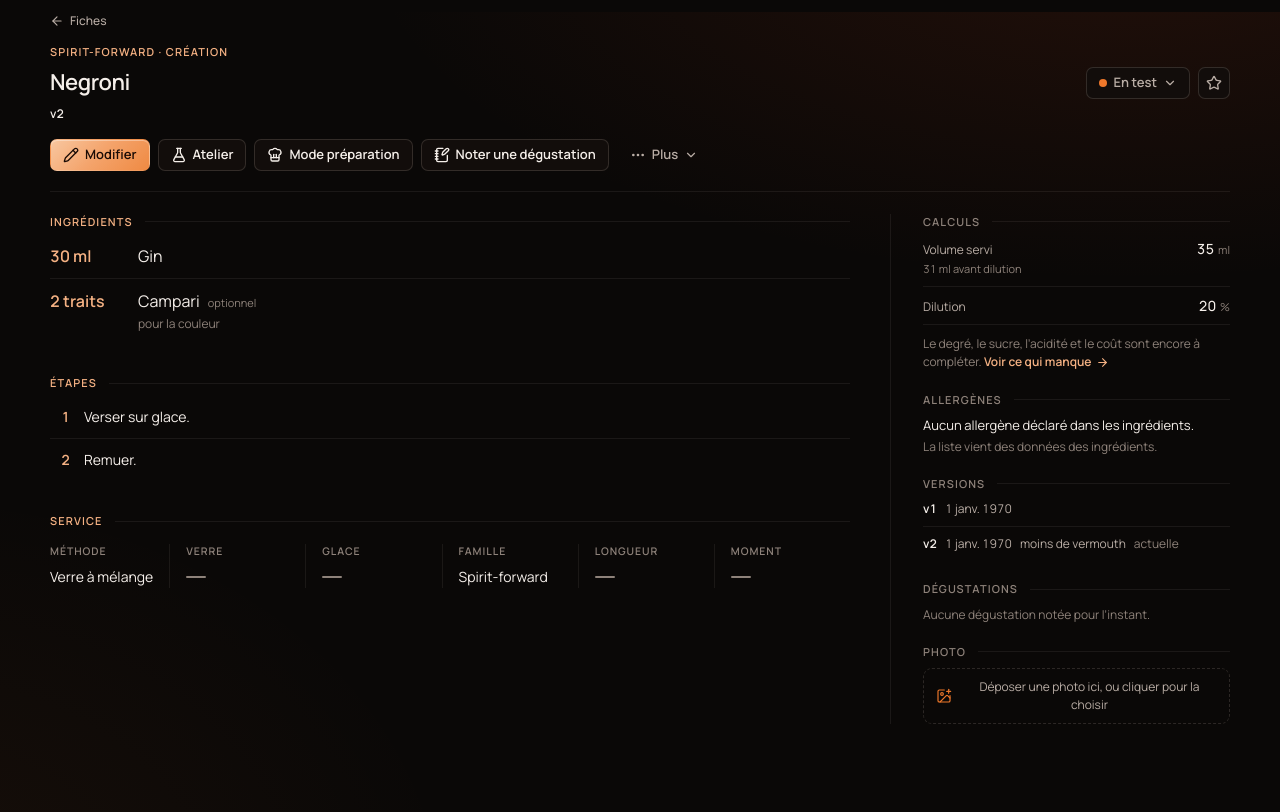
Test case: RecipeDetailPage › keeps four actions in sight and the others in « Plus »
Expected: the heading "Negroni" is shown, [50,69,130,96]
Expected: the button "Modifier" is shown, [50,138,150,170]
Click the button "Plus": (664, 154) [617,138,711,170]
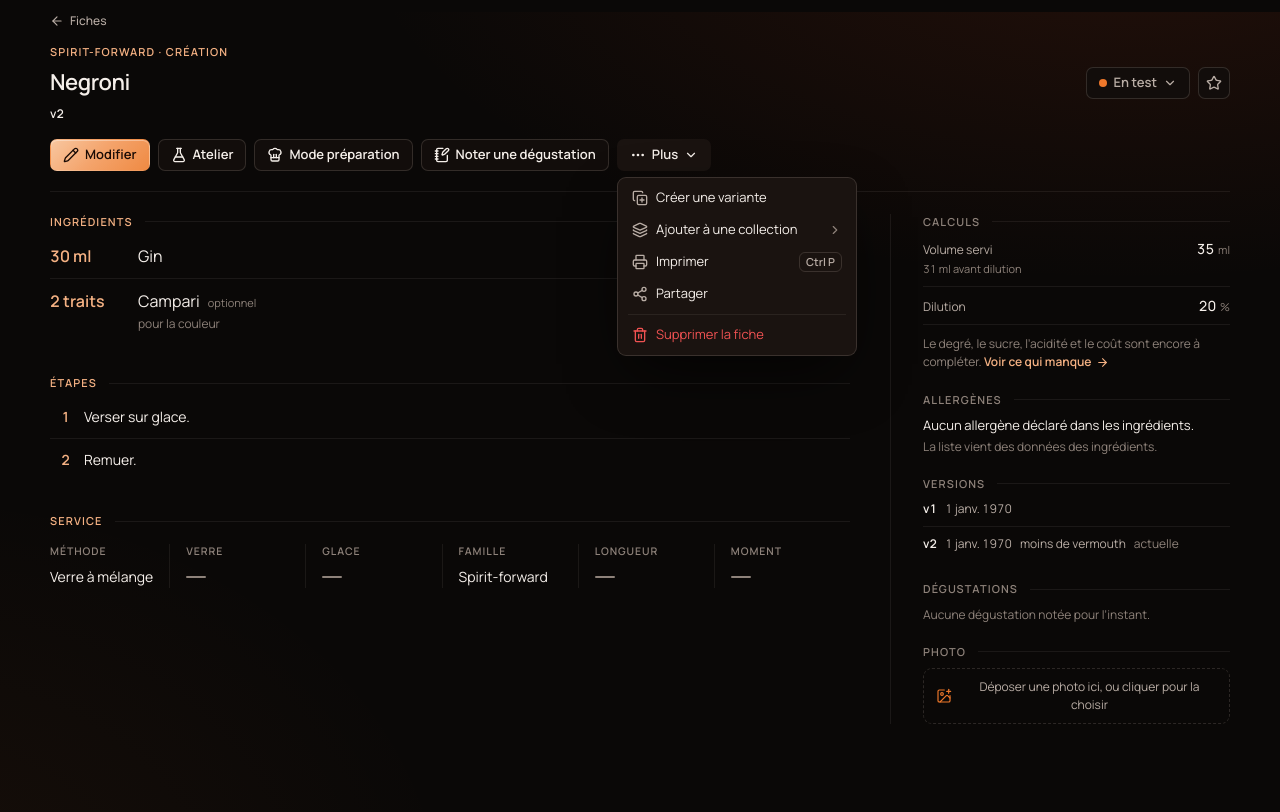
Now the text "Créer une variante" is shown, box [656,188,767,208]
Now the text "Supprimer la fiche" is shown, box [656,325,764,345]
Now the menu item "Partager" is shown, box [632,284,708,302]
